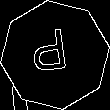P_S: (33, 27, 77, 83)
